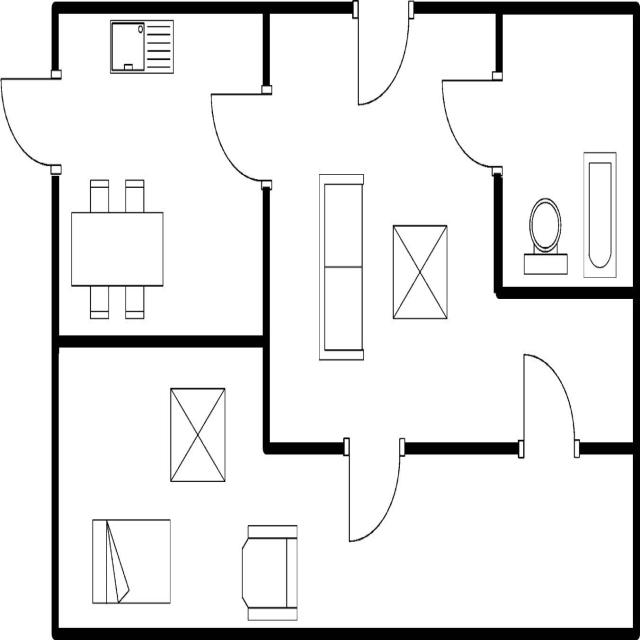bed: (88, 511, 173, 608)
coffee_table: (386, 218, 452, 326), (239, 515, 301, 624), (166, 382, 228, 488)
dining_table: (68, 172, 166, 326)
large_sink: (520, 192, 570, 281)
large_sofa: (314, 166, 370, 365)
sink: (107, 14, 176, 78)
tub: (580, 146, 618, 283)
